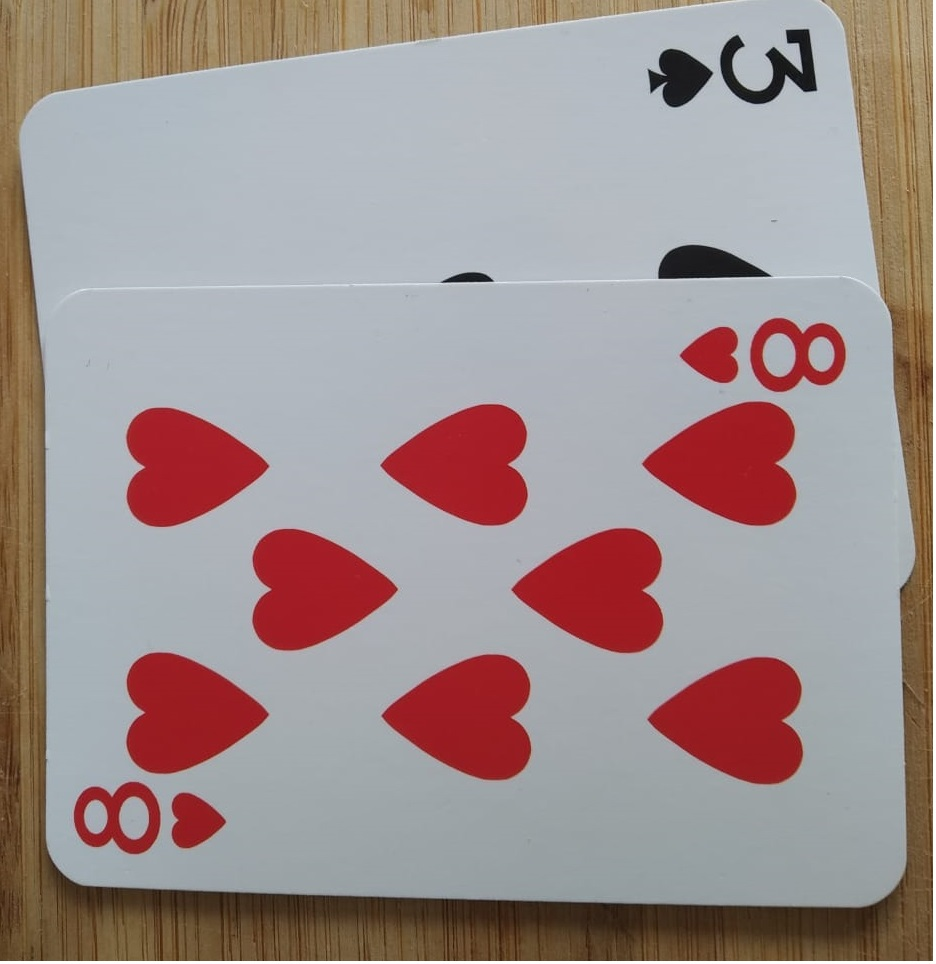eight: (29, 248, 917, 927)
three: (1, 4, 936, 605)
